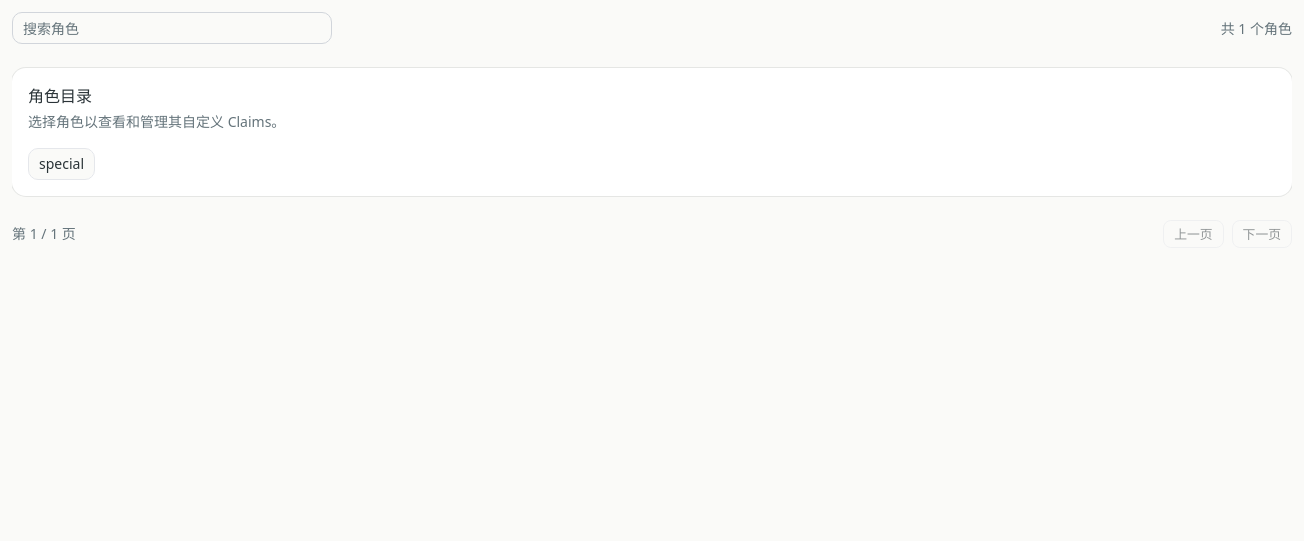
Test case: RolesPage › encodes the selected role ID in the Claims request
Click the button "special": [62, 164] box [28,148,95,180]
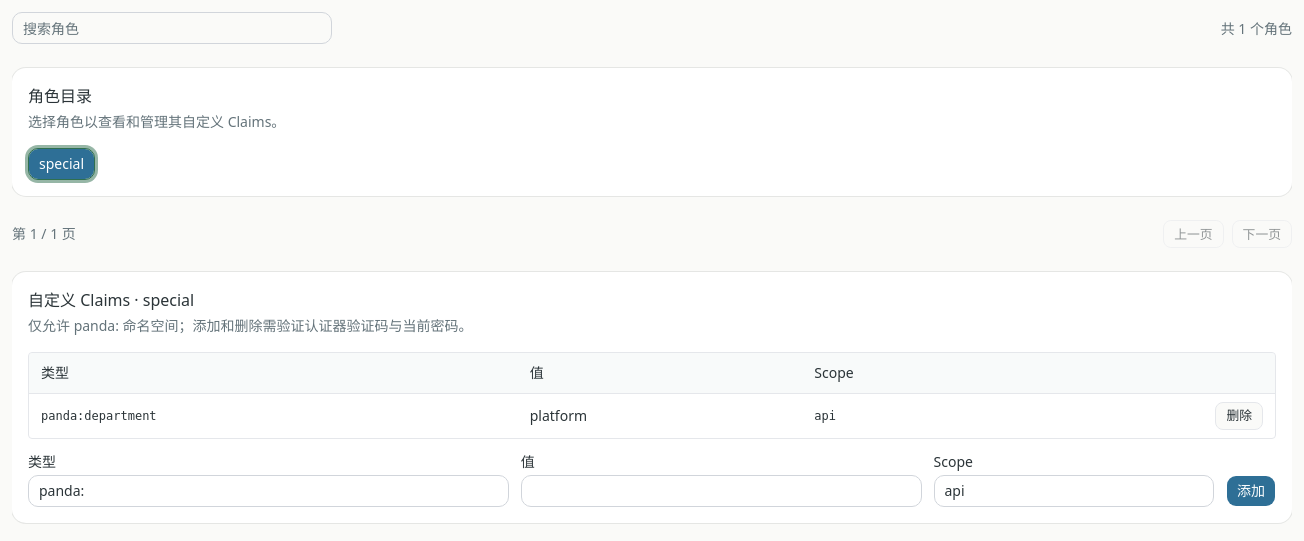
Check: the text "panda:department" is shown, box [29,393,518,438]
